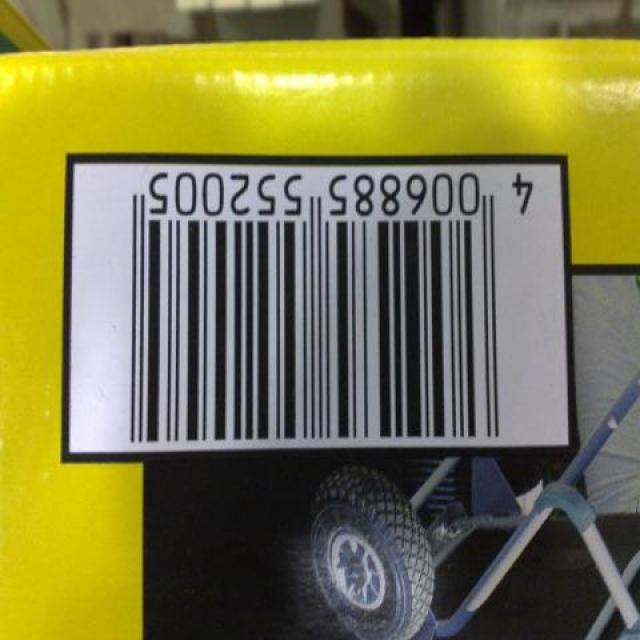Barcode: (71, 164, 558, 447)
